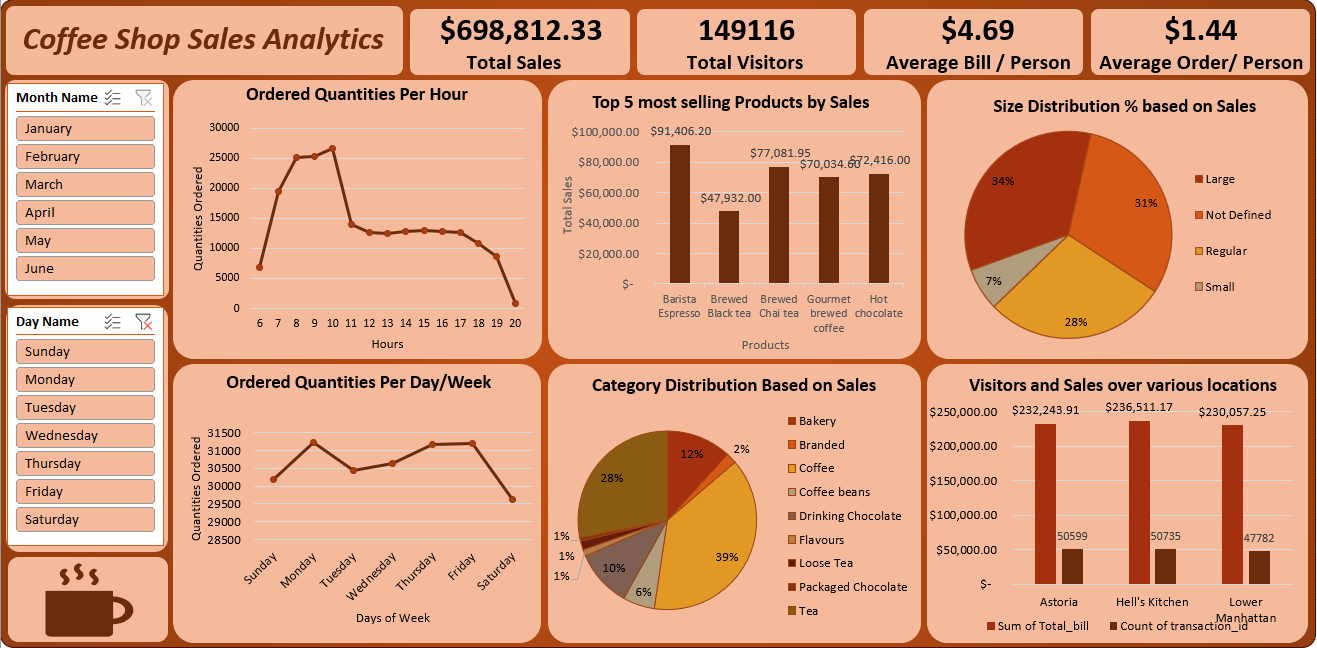

Layout of this report page (visuals, bound fields, positions):
{"tool":"powerbi","page":{"name":"Page 2","canvas":[1280,720],"ordinal":0},"visuals":[{"type":"group","id":"g1","title":"Group 1","box":[6.9,7.5,1267.5,703.7],"z":0},{"type":"shape","box":[8,8,384,75],"z":0,"group":"g1"},{"type":"card","fields":{"Values":["Measures Table.Sum of Total Bill"]},"box":[400,0,213,62],"z":1000},{"type":"textbox","box":[15.2,16.8,377.1,62.9],"z":1000,"group":"g1"},{"type":"textbox","box":[437.3,54.7,130.7,30.7],"z":2000},{"type":"shape","box":[216,89,345,306],"z":2000,"group":"g1"},{"type":"card","fields":{"Values":["Measures Table.Total Visitors"]},"box":[621.1,0,212.2,62.2],"z":3000},{"type":"shape","box":[6.9,88.1,201.1,231.1],"z":3000,"group":"g1"},{"type":"card","fields":{"Values":["Measures Table.Average Bill Per Person"]},"box":[841.2,0,212.5,62.5],"z":4000},{"type":"shape","box":[7,324.7,201.1,251.1],"z":4000,"group":"g1"},{"type":"shape","box":[569.2,89.2,351.7,305.8],"z":5000,"group":"g1"},{"type":"shape","box":[6.7,583.3,200.8,126.7],"z":5000},{"type":"card","fields":{"Values":["Measures Table.Average Orders per Person"]},"box":[1061.2,0,212.5,62.5],"z":6000},{"type":"shape","box":[927.8,88.9,342.9,305.7],"z":6000,"group":"g1"},{"type":"textbox","box":[666.7,54.4,122.2,31.1],"z":7000},{"type":"shape","box":[216,401,345,310],"z":7000,"group":"g1"},{"type":"textbox","box":[845.6,53.3,205.6,35.6],"z":8000},{"type":"shape","box":[569.2,401.2,351.7,310],"z":8000,"group":"g1"},{"type":"textbox","box":[1058.9,53.3,210,34.4],"z":9000},{"type":"shape","box":[927.8,400.4,344.3,310],"z":9000,"group":"g1"},{"type":"shape","box":[400,8,213,75],"z":10000,"group":"g1"},{"type":"slicer","fields":{"Values":["Transactions.Month Name"]},"box":[15.6,88.9,184.4,228.9],"z":10000},{"type":"shape","box":[621.1,7.5,212.5,75],"z":11000,"group":"g1"},{"type":"slicer","fields":{"Values":["Transactions.Day Name"]},"box":[15.6,325.6,184.4,257.8],"z":11000},{"type":"shape","box":[841.6,7.5,212.5,75],"z":12000,"group":"g1"},{"type":"image","box":[8,566,189,154],"z":12000},{"type":"shape","box":[1062.2,7.8,212.2,75],"z":13000,"group":"g1"},{"type":"lineChart","title":"Order Quantities per Hour","fields":{"Category":["Transactions.Hour"],"Y":["Sum(Transactions.transaction_qty)"]},"box":[218.9,94.4,345.6,305.6],"z":13000},{"type":"clusteredColumnChart","title":"Top 5 Most selling products by Sales","fields":{"Y":["Sum(Transactions.Total Bill)"],"Category":["Transactions.product_type"]},"box":[568.1,93.6,352.2,302.2],"z":14000,"group":"g1"},{"type":"clusteredColumnChart","title":"Visitors and Sales Over various locations","fields":{"Y":["Sum(Transactions.Total Bill)","CountNonNull(Transactions.transaction_id)"],"Category":["Transactions.store_location"]},"box":[930,403.8,341.2,302.5],"z":14000},{"type":"lineChart","title":"Order Quantities per Day/week","fields":{"Y":["Sum(Transactions.transaction_qty)"],"Category":["Transactions.Day Number","Transactions.Day Name"]},"box":[208.8,405,346.2,300],"z":14000},{"type":"pieChart","title":"Order Size Distribution Based on Sales","fields":{"Category":["Transactions.Size"],"Y":["Sum(Transactions.Total Bill)"]},"box":[927.1,94.3,341.4,300],"z":15000},{"type":"pieChart","title":"Category Distribution Based on Sales","fields":{"Y":["Sum(Transactions.Total Bill)"],"Category":["Transactions.product_category"]},"box":[572.5,406.2,347.5,300],"z":16000}]}

Visuals, with their boxes in screenshot pixels (x1, y1, x2, y2):
"Group 1" group: <region>0, 0, 1146, 644</region>
shape: <region>0, 0, 333, 66</region>
card - Measures Table.Sum of Total Bill: <region>341, 0, 537, 47</region>
textbox: <region>0, 5, 334, 63</region>
textbox: <region>375, 40, 495, 68</region>
shape: <region>171, 72, 489, 353</region>
card - Measures Table.Total Visitors: <region>544, 0, 740, 47</region>
shape: <region>0, 71, 164, 284</region>
card - Measures Table.Average Bill Per Person: <region>747, 0, 942, 47</region>
shape: <region>0, 289, 164, 520</region>
shape: <region>496, 72, 820, 353</region>
shape: <region>0, 527, 164, 643</region>
card - Measures Table.Average Orders per Person: <region>949, 0, 1145, 47</region>
shape: <region>827, 72, 1142, 353</region>
textbox: <region>586, 40, 699, 68</region>
shape: <region>171, 359, 489, 644</region>
textbox: <region>751, 39, 940, 72</region>
shape: <region>496, 359, 820, 644</region>
textbox: <region>947, 39, 1141, 70</region>
shape: <region>827, 358, 1144, 644</region>
shape: <region>341, 0, 537, 66</region>
slicer - Transactions.Month Name: <region>0, 72, 157, 282</region>
shape: <region>544, 0, 740, 66</region>
slicer - Transactions.Day Name: <region>0, 289, 157, 527</region>
shape: <region>747, 0, 943, 66</region>
image: <region>0, 511, 154, 647</region>
shape: <region>950, 0, 1146, 66</region>
"Order Quantities per Hour" lineChart: <region>174, 77, 492, 358</region>
"Top 5 Most selling products by Sales" clusteredColumnChart: <region>495, 76, 820, 354</region>
"Visitors and Sales Over various locations" clusteredColumnChart: <region>829, 361, 1143, 640</region>
"Order Quantities per Day/week" lineChart: <region>165, 363, 483, 639</region>
"Order Size Distribution Based on Sales" pieChart: <region>826, 77, 1140, 353</region>
"Category Distribution Based on Sales" pieChart: <region>500, 364, 819, 640</region>
